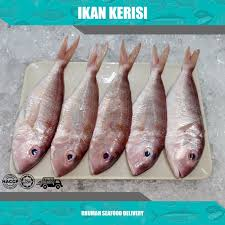Ikan Kerisi: (7, 43, 65, 180), (161, 39, 212, 186), (84, 45, 136, 176), (125, 50, 172, 179), (46, 38, 88, 179)
